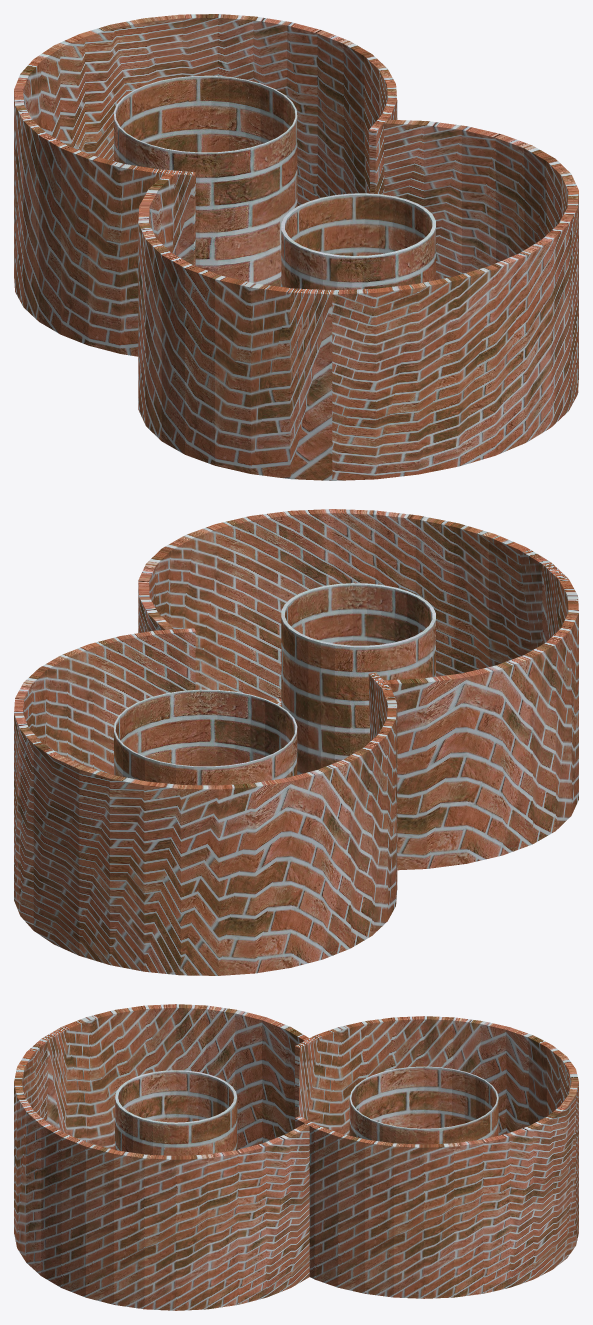
The model's file is eight.dae.
3 views of the same model, one above another, from view 1: azimuth 30°, elevation 25°; view 2: azimuth 150°, elevation 25°; view 3: azimuth 270°, elevation 25° (orthographic). The views are drawn at different scales.
Visible parts, largest first — view 1: Cylinder.003, Cylinder.001, Cylinder, Cylinder.002; view 2: Cylinder.001, Cylinder.003, Cylinder.002, Cylinder; view 3: Cylinder.003, Cylinder.001, Cylinder, Cylinder.002.
Boxes of the visible parts, x1,y1,x2,y2 form: Cylinder.003: (138, 119, 578, 480); Cylinder.001: (14, 14, 397, 356); Cylinder: (114, 75, 297, 286); Cylinder.002: (281, 193, 435, 290); Cylinder.001: (14, 628, 397, 975); Cylinder.003: (138, 509, 578, 870); Cylinder.002: (281, 583, 435, 774); Cylinder: (114, 689, 297, 785); Cylinder.003: (14, 1004, 309, 1310); Cylinder.001: (295, 1016, 578, 1298); Cylinder: (349, 1066, 498, 1144); Cylinder.002: (115, 1070, 237, 1155).
Size of the model in its own units: 14.95 by 22.92 by 6.8.
Materials: 1 (1 with a texture image).
